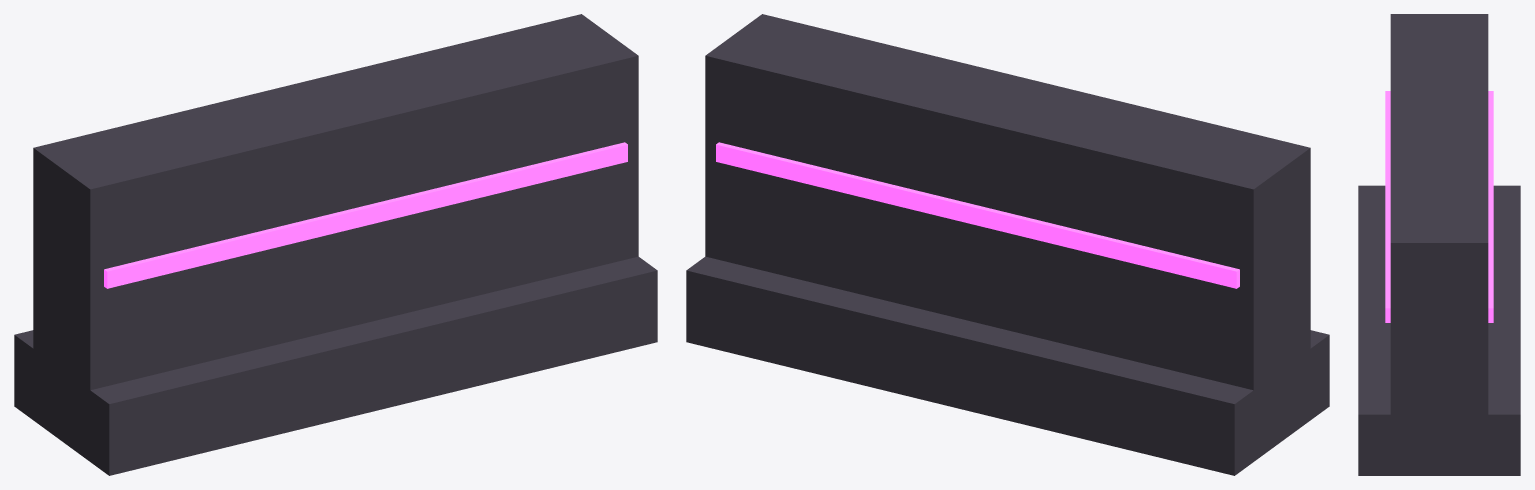
Rendered from nc_neon_barrier.glb.
The picture shows the model from 3 angles, left to right: view 1: azimuth 30°, elevation 25°; view 2: azimuth 150°, elevation 25°; view 3: azimuth 270°, elevation 25°; orthographic projection. The views are drawn at different scales.
Visible parts, largest first — view 1: nc_neon_barrier; view 2: nc_neon_barrier; view 3: nc_neon_barrier.
Part boxes in pixels (x1,y1,x2,y2): nc_neon_barrier: [14, 14, 657, 475]; nc_neon_barrier: [686, 14, 1329, 475]; nc_neon_barrier: [1358, 14, 1520, 475].
Size of the model in its own units: 2 by 0.95 by 0.6.
